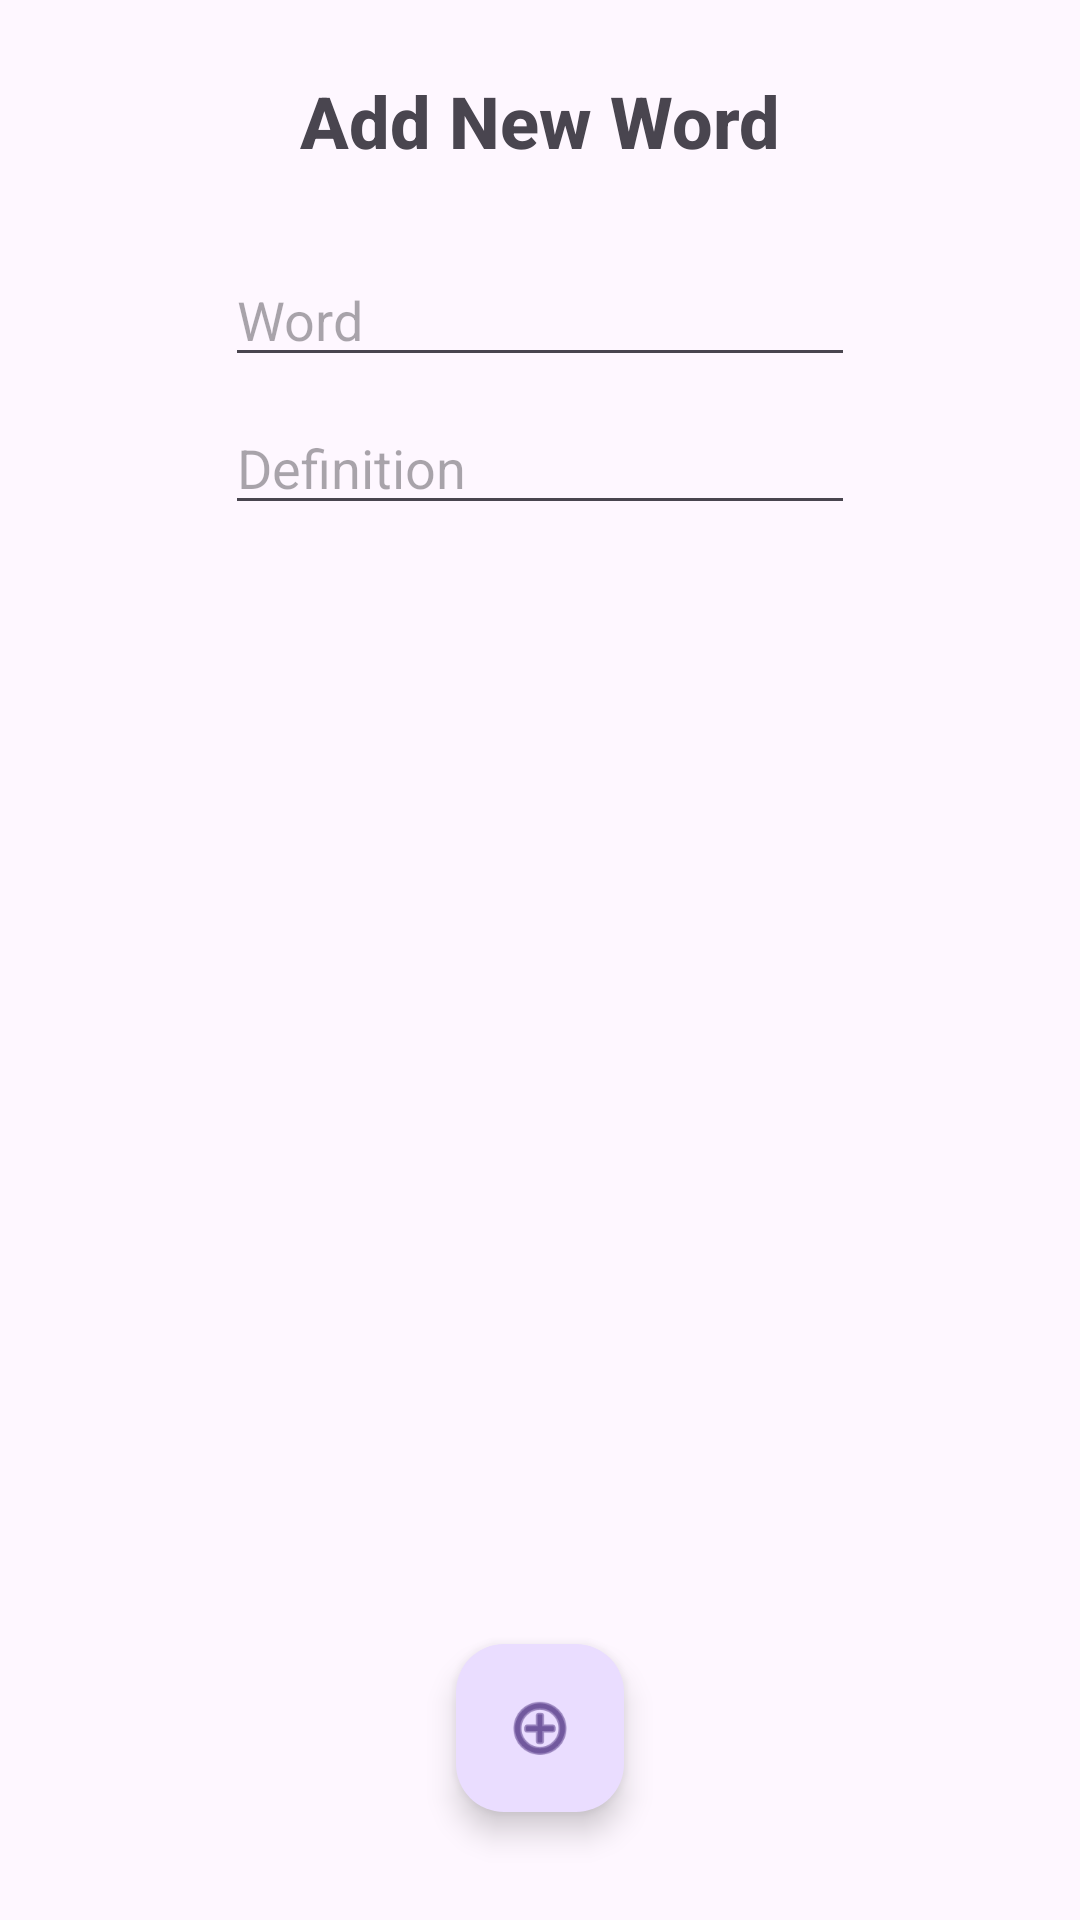

Named icons in this screenshot (1080*1920) and their centers, point (x, y):
add: point (540, 1728)
